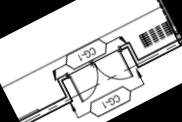double door: (66, 48, 135, 105)
